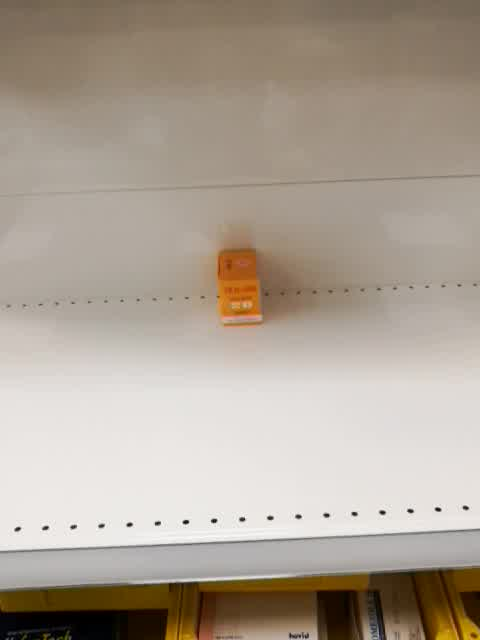jasminetea: (216, 247, 263, 326)
